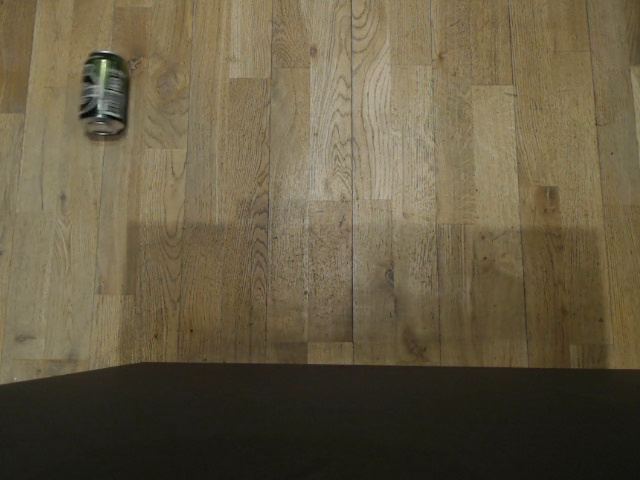beer: (78, 48, 132, 141)
